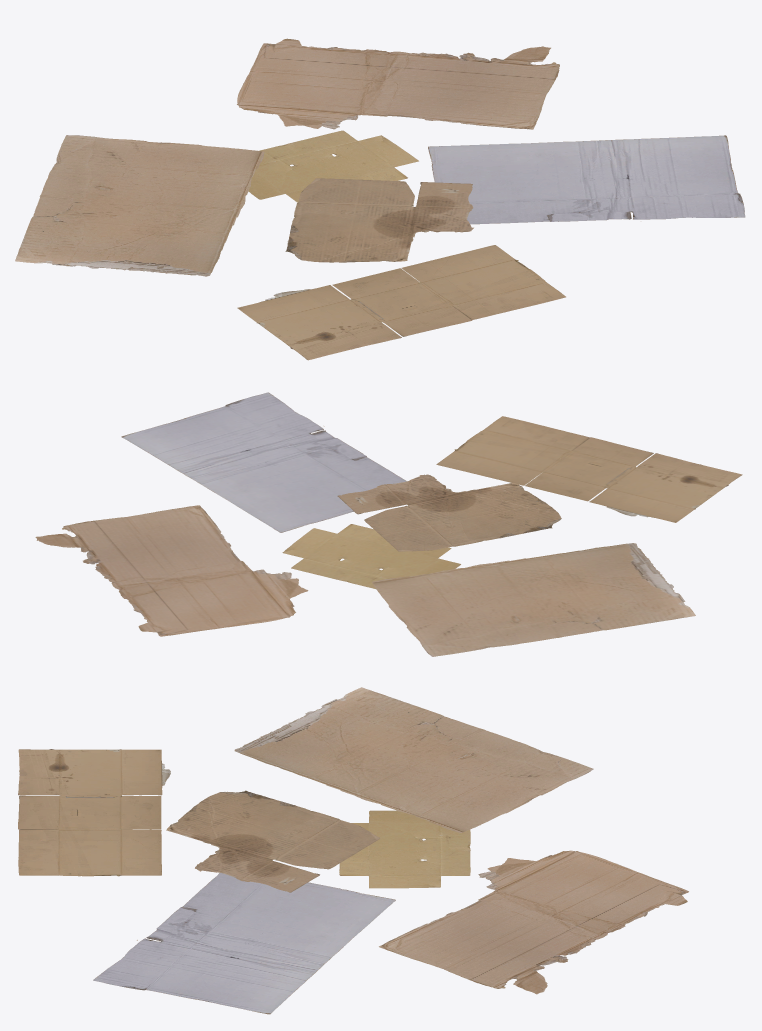
File: SM_Cardboard_02.glb
The picture shows the model from 3 angles, top to bottom: view 1: azimuth 30°, elevation 25°; view 2: azimuth 150°, elevation 25°; view 3: azimuth 270°, elevation 25°; orthographic projection. The views are drawn at different scales.
Visible parts, largest first — view 1: SM_Cardboard_02; view 2: SM_Cardboard_02; view 3: SM_Cardboard_02.
Part boxes in pixels (left/top/right/bottom): SM_Cardboard_02: left=15, top=38, right=745, bottom=360; SM_Cardboard_02: left=35, top=392, right=742, bottom=656; SM_Cardboard_02: left=18, top=687, right=688, bottom=1014.
Size of the model in its own units: 2.39 by 0.0112 by 2.26.
Materials: 1 (1 with a texture image).
